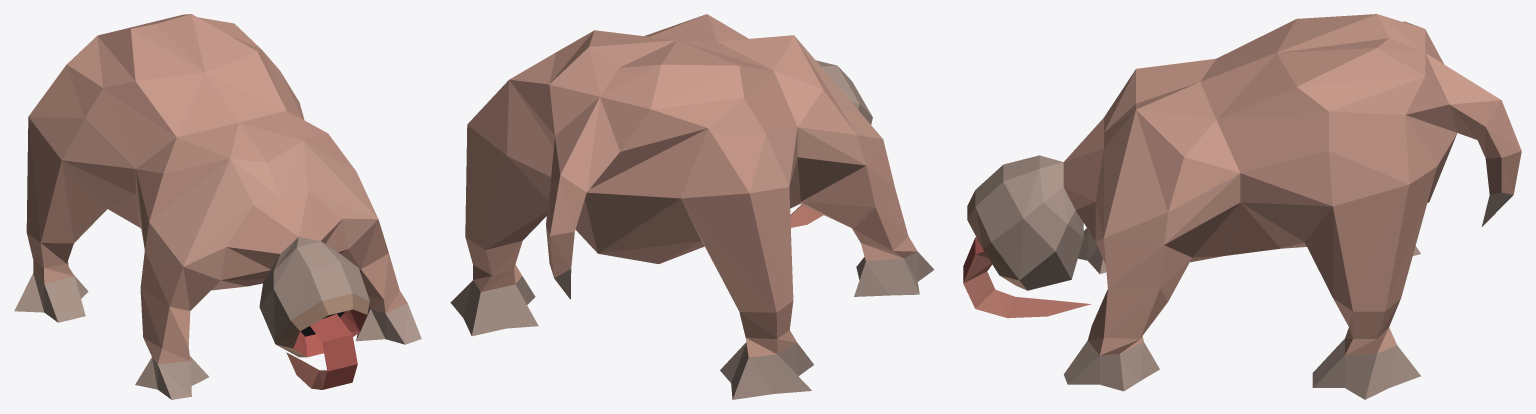
Rendered from bloodveld.gltf.
3 renders of one model, left to right at view 1: azimuth 30°, elevation 25°; view 2: azimuth 150°, elevation 25°; view 3: azimuth 270°, elevation 25°, orthographic. The views are drawn at different scales.
Size of the model in its own units: 100 by 78 by 139.
1 material, 1 textured.
